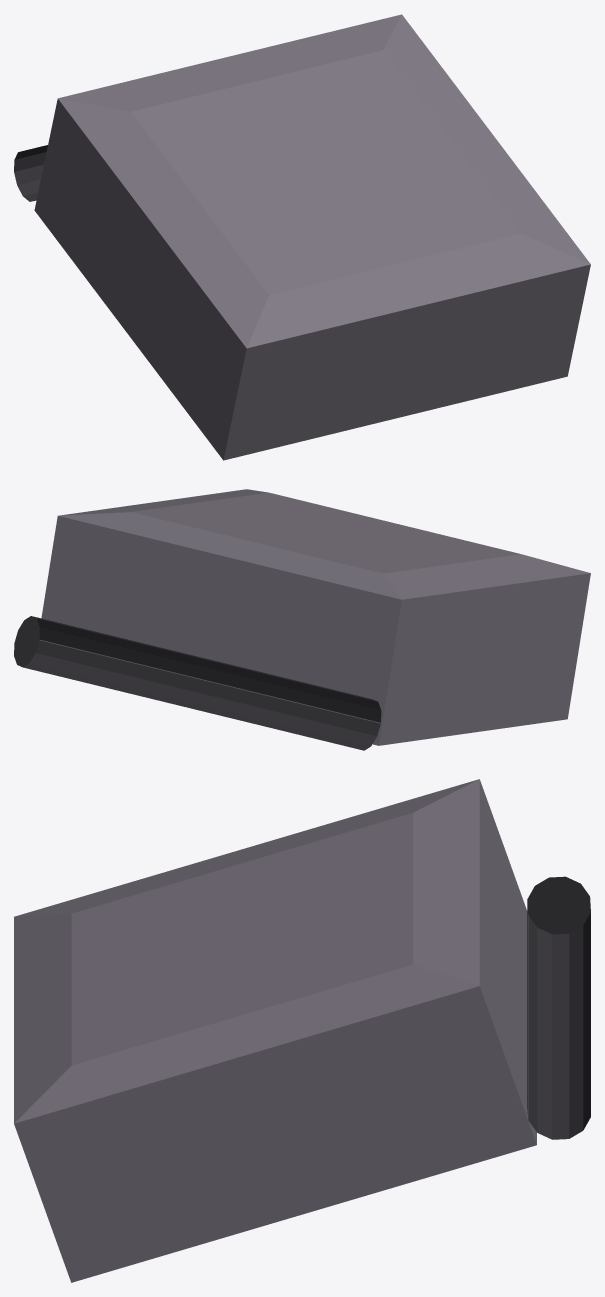
Rendered from Flip_button_cover.glb.
3 views of the same model, one above another, from view 1: azimuth 30°, elevation 25°; view 2: azimuth 150°, elevation 25°; view 3: azimuth 270°, elevation 25° (orthographic). The views are drawn at different scales.
Visible parts, largest first — view 1: Flip_button_cover; view 2: Flip_button_cover; view 3: Flip_button_cover.
Part boxes in pixels (bbox=[...]): Flip_button_cover: bbox=[14, 14, 590, 460]; Flip_button_cover: bbox=[14, 489, 590, 750]; Flip_button_cover: bbox=[14, 779, 590, 1282].
Size of the model in its own units: 0.3651 by 0.2441 by 0.43.
Materials: 1 (1 with a texture image).
